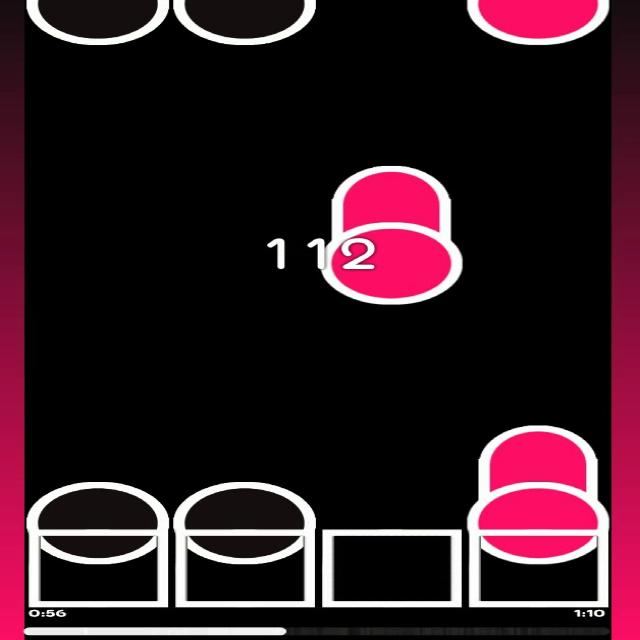end_hold: (326, 158, 454, 202), (477, 420, 600, 460)
note: (170, 482, 318, 566), (28, 480, 169, 566), (172, 0, 317, 47), (26, 0, 170, 47)
start_hold: (467, 470, 610, 563), (320, 215, 464, 306), (466, 0, 610, 46)
